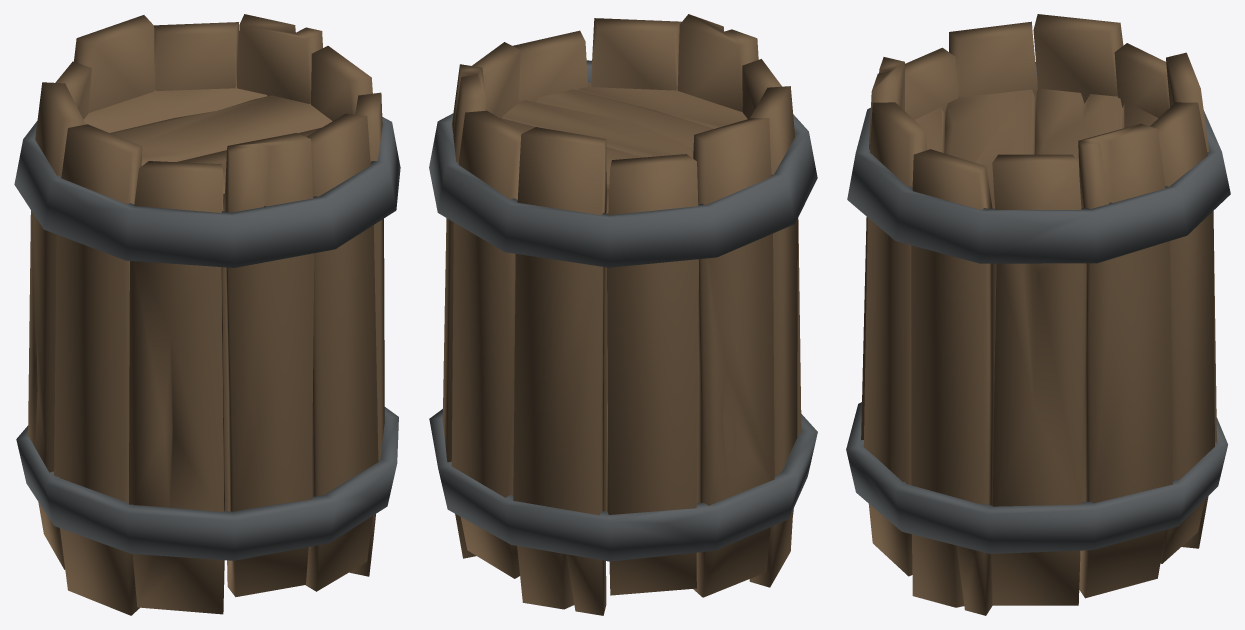
Rendered from rpgpp_lt_barrel_01 -col.glb.
3 views of the same model, side by side, from view 1: azimuth 30°, elevation 25°; view 2: azimuth 150°, elevation 25°; view 3: azimuth 270°, elevation 25° (orthographic).
Parts seen in each view (by area): view 1: rpgpp_lt_barrel_01 -col; view 2: rpgpp_lt_barrel_01 -col; view 3: rpgpp_lt_barrel_01 -col.
Part boxes in pixels (x1,y1,x2,y2): rpgpp_lt_barrel_01 -col: (14, 14, 400, 615); rpgpp_lt_barrel_01 -col: (429, 14, 817, 615); rpgpp_lt_barrel_01 -col: (846, 14, 1230, 615).
Bounding box in the file's own units: 0.8519 × 1.16 × 0.8605.
1 material, 1 textured.
